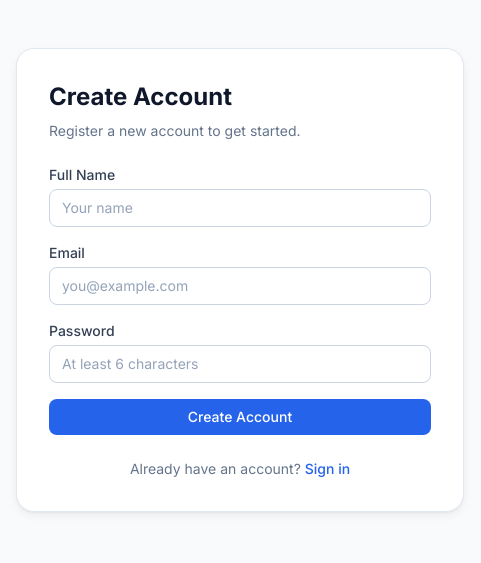
Test: signup page › R. validation blocks empty email and short passwords
The image size is (481, 563).
Expected: the heading "Create Account" is shown, [49,82,232,111]
Type "new@x.io" into the field with placeholder "you@example.com".
click(240, 286); type("new@x.io")  # box [49,267,431,305]
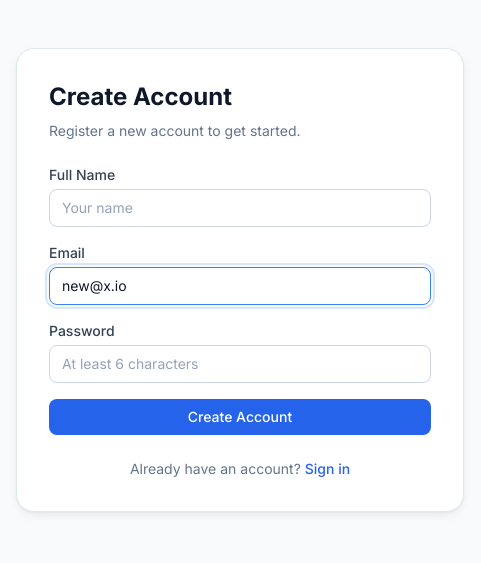
Type "123" into the password field with placeholder "At least 6 characters".
click(240, 364); type("123")  # box [49,345,431,383]
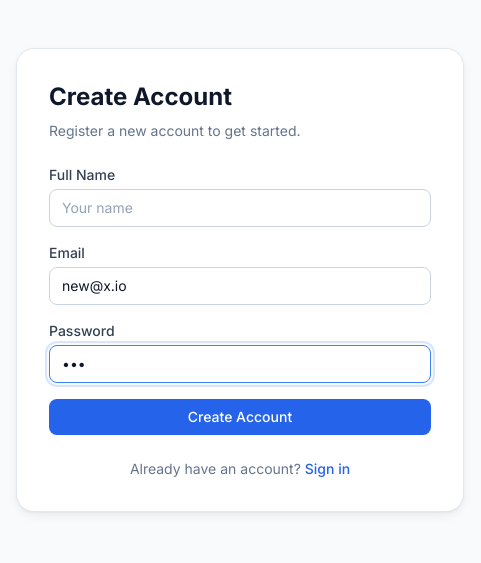
Click the button "Create Account".
click(240, 417)  # box [49,399,431,435]
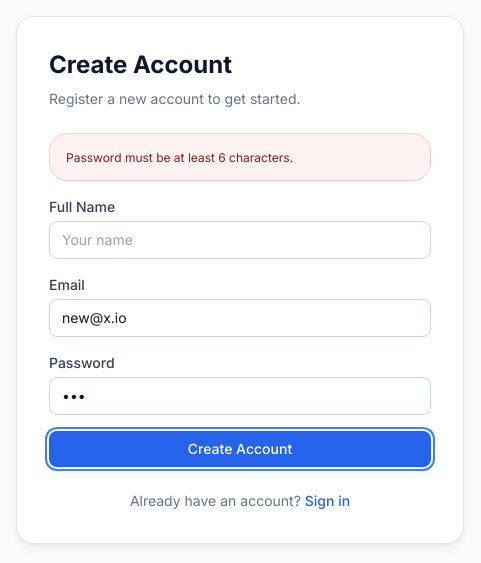
Result: the text "Password must be at least 6 characters." is shown at [66,150,293,165]
